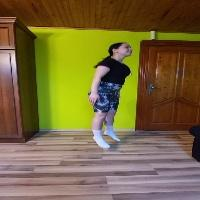high_jumps: (82, 34, 141, 154)
